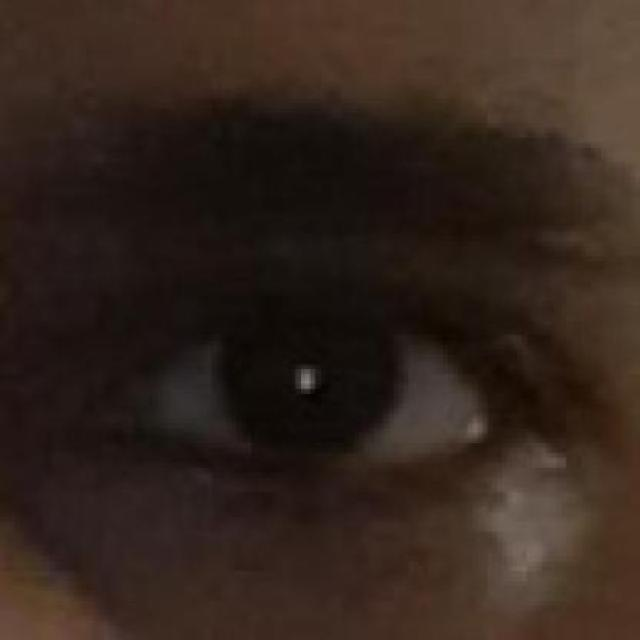awake: (123, 300, 497, 478)
